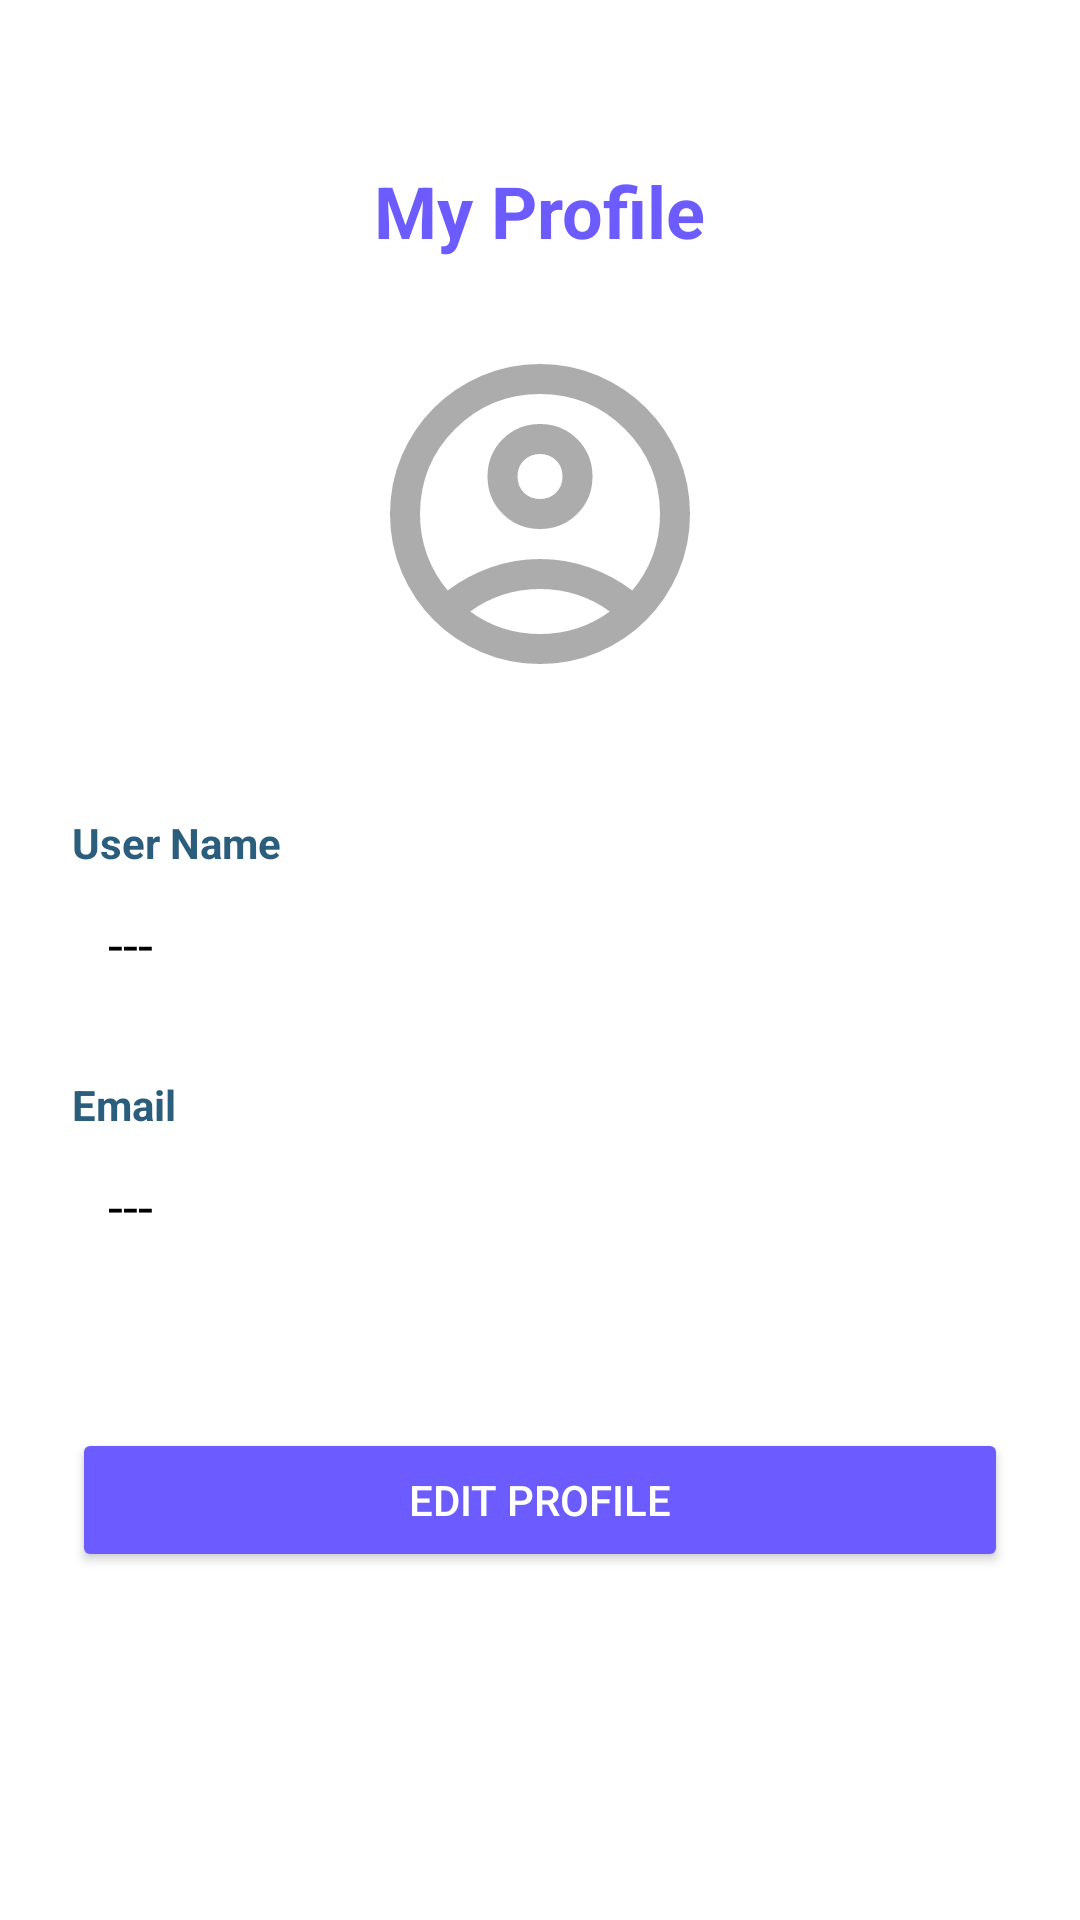

Screen size 1080*1920. Icon name, then its box in pixels as (x1, y1, x2, y2):
account circle: (390, 364, 690, 664)
